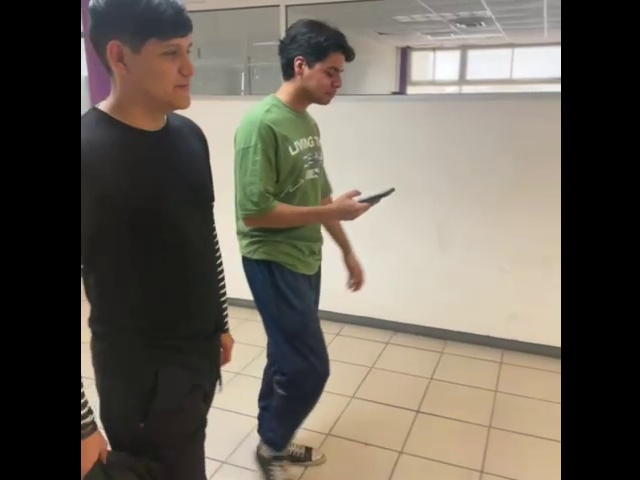mixto2: (346, 185, 409, 210)
